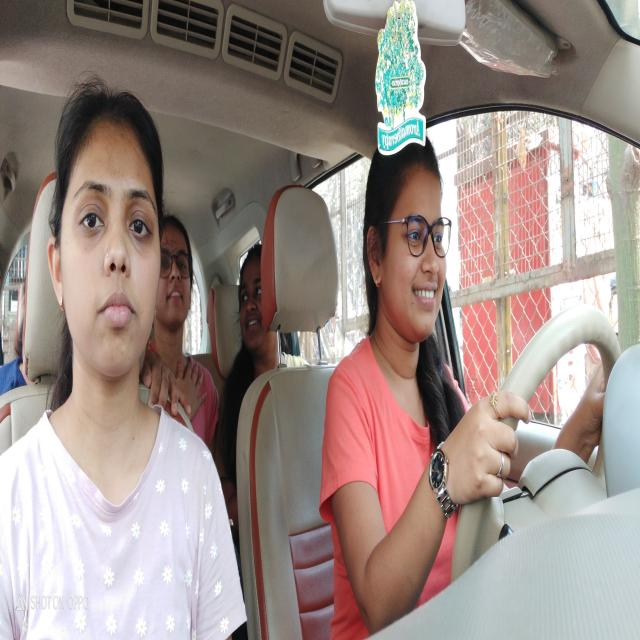person: (48, 82, 162, 364), (367, 134, 453, 357), (158, 208, 195, 331), (236, 246, 272, 367)
